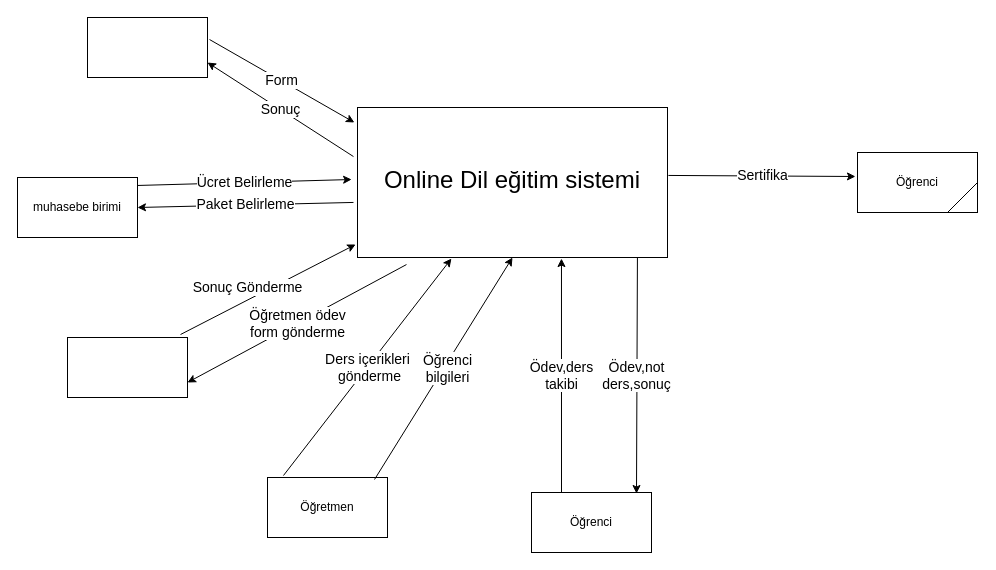
Image size: 996x570. Some labels were removed from this diagram. The box of each missing label's shape, as (x1, y1, x2, y2) in pixels:
Kullanıcı: (86, 16, 208, 78)
Şube Koordinatörü: (66, 336, 188, 398)
